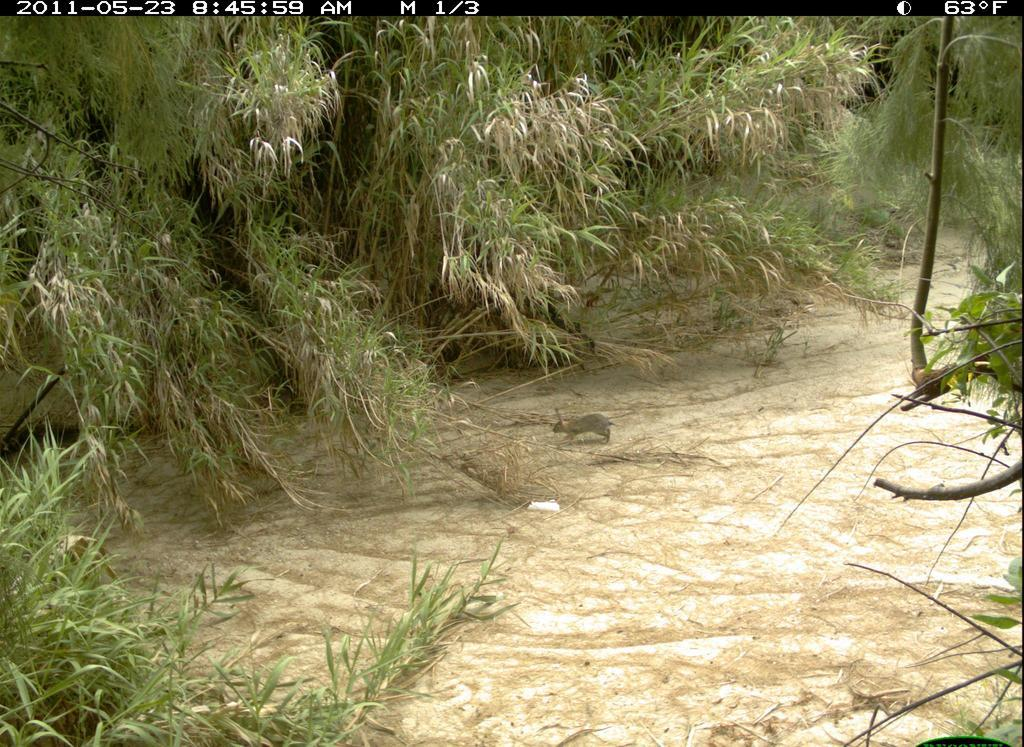rabbit: (542, 381, 632, 472)
